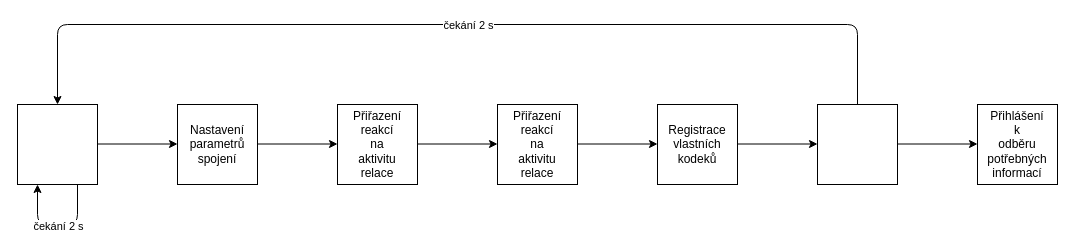
Some shapes in this 1075 by 250 pixel diagram are drawn without their labels. The shapes that lost their labels are listed below. From the top down, each one's centre as x and y in pixels, then its label:
pixel 57 144: Prohledání endpointů
pixel 857 144: Pokus o připojení
